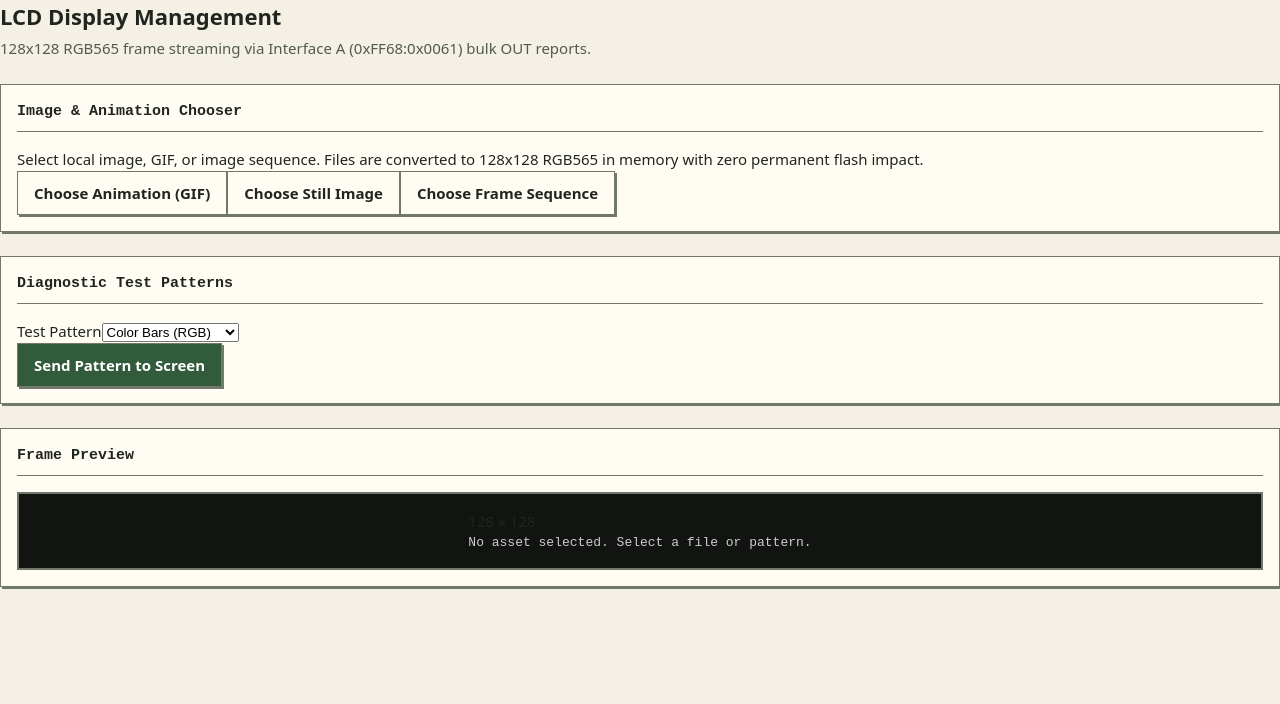
Scenario: LcdPage Workflow and Safety Rails › prevents duplicate start when a streaming job is already running
The image size is (1280, 704).
Expected: the heading "LCD Display Management" is shown, [0,1,281,31]
Click the button "Send Pattern to Screen": (120, 364) [17,342,222,386]
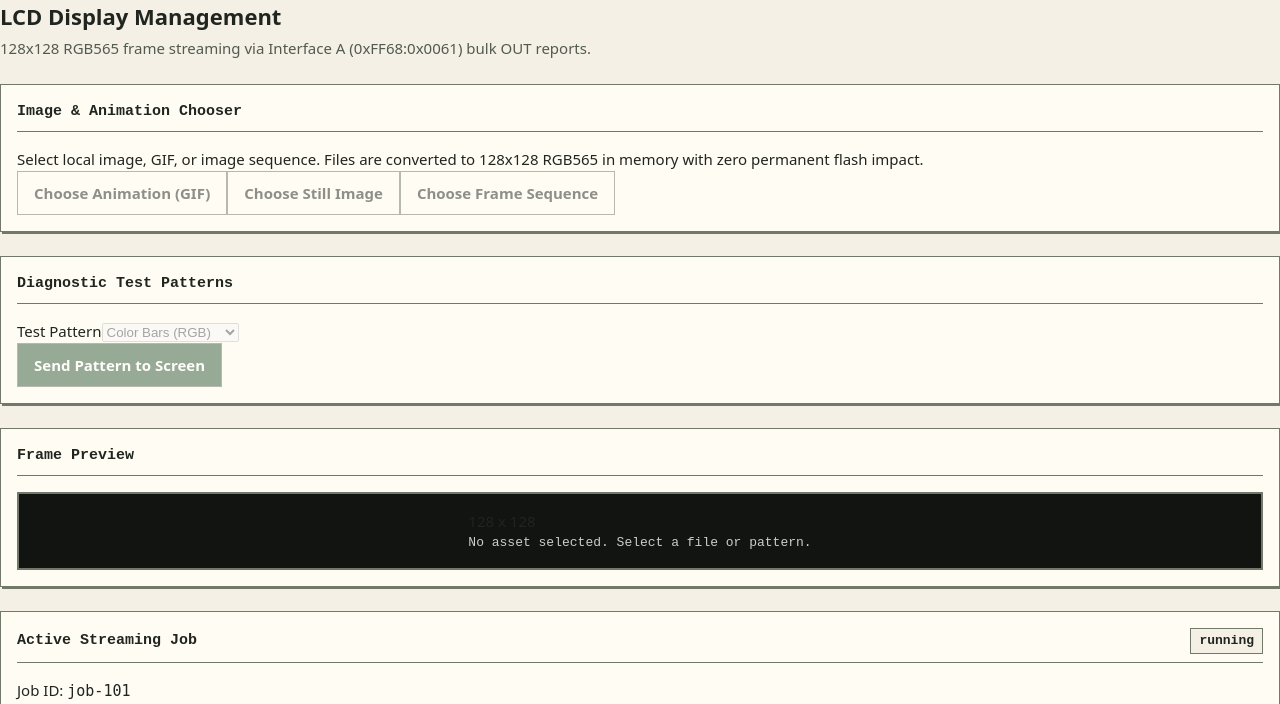
Expected: the button "Send Pattern to Screen" is disabled, [17,342,222,386]
